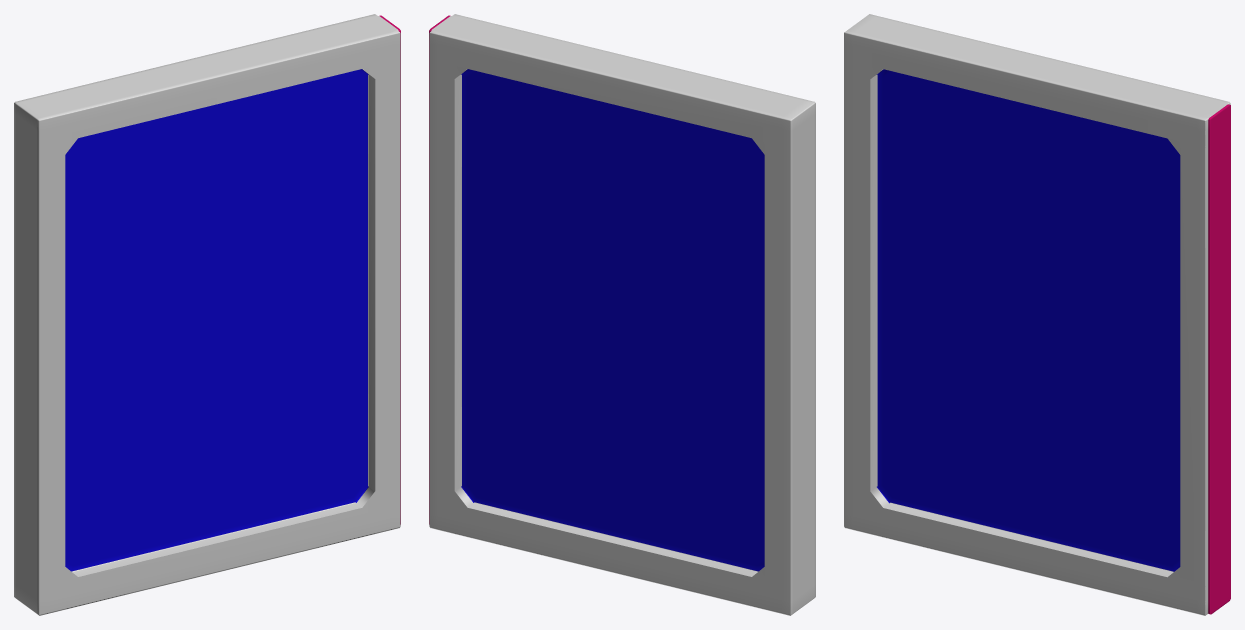
Rendered from Door.fbx.
3 renders of one model, left to right at view 1: azimuth 30°, elevation 25°; view 2: azimuth 150°, elevation 25°; view 3: azimuth 330°, elevation 25°, orthographic.
Visible parts, largest first — view 1: Door; view 2: Door; view 3: Door.
Part boxes in pixels (x1=…): Door: x1=14, y1=14, x2=400, y2=615; Door: x1=429, y1=14, x2=815, y2=615; Door: x1=844, y1=14, x2=1230, y2=615.
Size of the model in its own units: 155 by 202 by 18.43.
